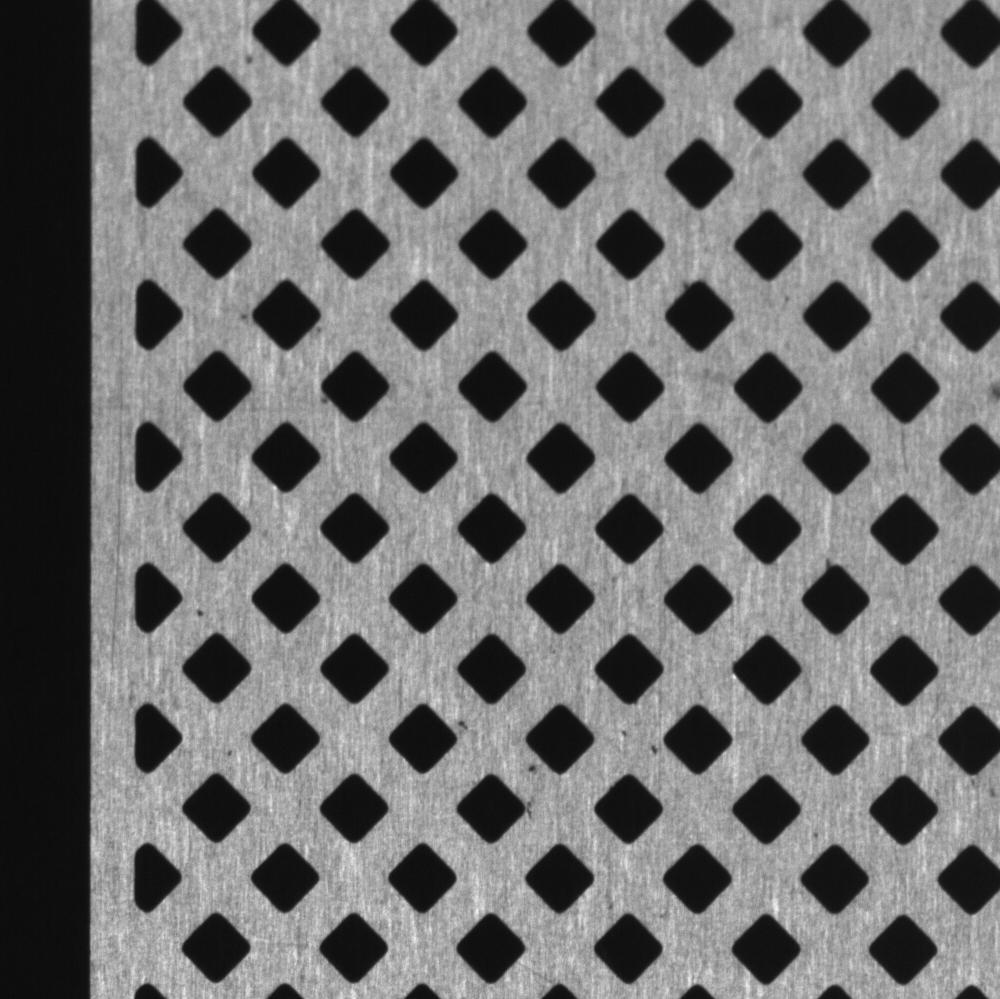Scar: (94, 270, 137, 708), (883, 416, 924, 481), (386, 664, 414, 716)
